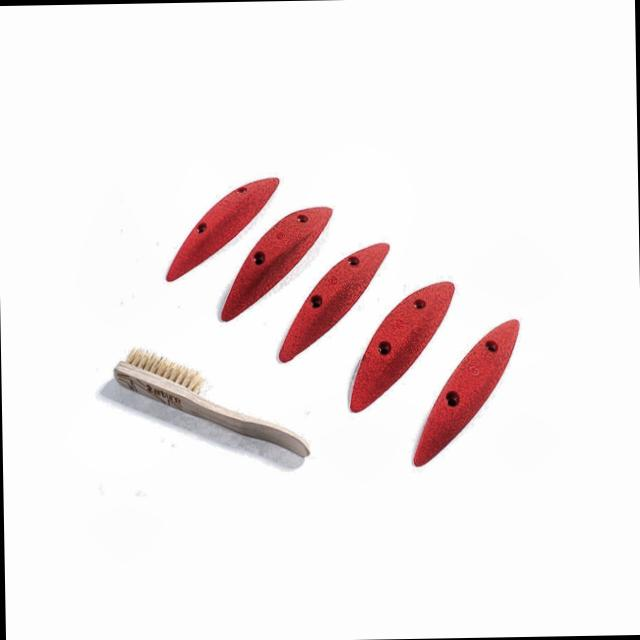Hold: (404, 309, 531, 487), (339, 268, 470, 425), (269, 227, 398, 376), (157, 161, 292, 302), (212, 196, 336, 336)
